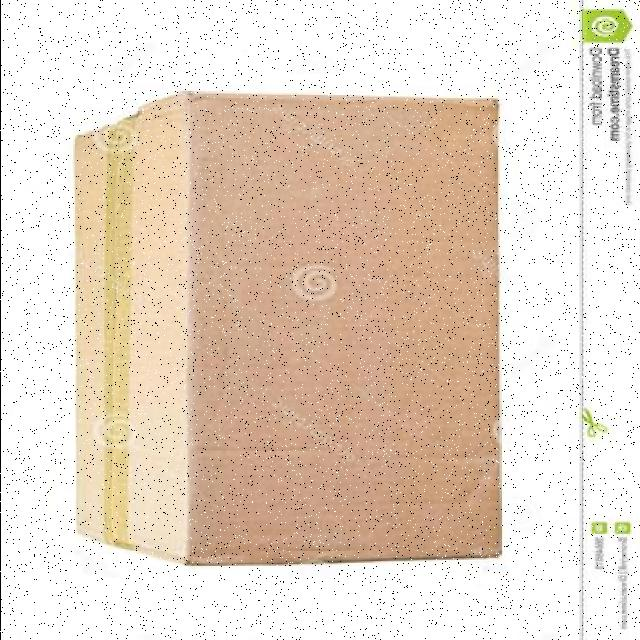normal: (64, 74, 510, 578)
